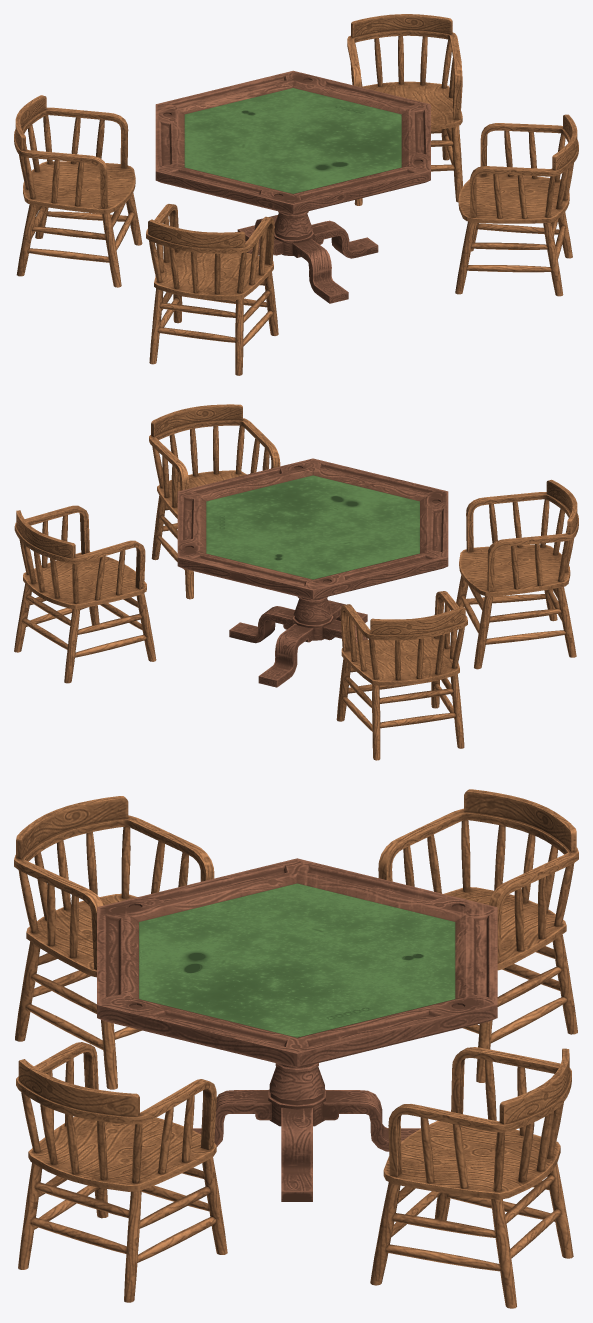
3 views of the same model, one above another, from view 1: azimuth 30°, elevation 25°; view 2: azimuth 150°, elevation 25°; view 3: azimuth 270°, elevation 25° (orthographic). The views are drawn at different scales.
Parts seen in each view (by area): view 1: Table_Poker_low, Assise_M_1001_0.002, Assise_M_1001_0, Assise_M_1001_0.001, Contour_M_1001_0.002, Contour, Assise_M_1001_0.003, Contour_M_1001_0.003, Pied_poker_low_03, Contour_M_1001_0.001, Dossier_M_1001_0.003, Dossier_M_1001_0.001 (+20 smaller); view 2: Table_Poker_low, Assise_M_1001_0.001, Assise_M_1001_0.003, Assise_M_1001_0.002, Contour_M_1001_0.001, Contour_M_1001_0.003, Contour, Contour_M_1001_0.002, Pied_poker_low_01, Dossier_M_1001_0.002, Dossier, Pied_poker_low_04 (+18 smaller); view 3: Table_Poker_low, Assise_M_1001_0.003, Assise_M_1001_0, Contour_M_1001_0.003, Contour, Contour_M_1001_0.002, Contour_M_1001_0.001, Pied_poker_low_04, Dossier, Assise_M_1001_0.002, Dossier_M_1001_0.002, Dossier_M_1001_0.001 (+25 smaller).
Part boxes in pixels (<box>): Table_Poker_low: <box>155,70,430,214</box>; Assise_M_1001_0.002: <box>23,161,135,213</box>; Assise_M_1001_0: <box>458,173,569,223</box>; Assise_M_1001_0.001: <box>154,250,273,299</box>; Contour_M_1001_0.002: <box>14,107,128,208</box>; Contour: <box>469,123,578,217</box>; Assise_M_1001_0.003: <box>362,81,462,130</box>; Contour_M_1001_0.003: <box>347,30,462,119</box>; Pied_poker_low_03: <box>292,238,348,303</box>; Contour_M_1001_0.001: <box>146,204,274,264</box>; Dossier_M_1001_0.003: <box>351,14,452,37</box>; Dossier_M_1001_0.001: <box>148,219,245,248</box>; Table_Poker_low: <box>177,458,448,600</box>; Assise_M_1001_0.001: <box>459,544,570,596</box>; Assise_M_1001_0.003: <box>23,552,146,609</box>; Assise_M_1001_0.002: <box>341,637,459,685</box>; Contour_M_1001_0.001: <box>466,492,578,591</box>; Contour_M_1001_0.003: <box>14,505,145,589</box>; Contour: <box>149,418,280,490</box>; Contour_M_1001_0.002: <box>340,591,467,651</box>; Pied_poker_low_01: <box>258,623,313,687</box>; Dossier_M_1001_0.002: <box>370,606,465,635</box>; Dossier: <box>151,404,242,436</box>; Pied_poker_low_04: <box>229,606,294,643</box>; Table_Poker_low: <box>97,858,497,1068</box>; Assise_M_1001_0.003: <box>383,1120,560,1199</box>; Assise_M_1001_0: <box>28,1116,216,1191</box>; Contour_M_1001_0.003: <box>388,1047,571,1176</box>; Contour: <box>16,1042,216,1150</box>; Contour_M_1001_0.002: <box>378,808,578,962</box>; Contour_M_1001_0.001: <box>14,815,214,969</box>; Pied_poker_low_04: <box>281,1107,312,1201</box>; Dossier: <box>18,1059,139,1116</box>; Assise_M_1001_0.002: <box>444,887,566,970</box>; Dossier_M_1001_0.002: <box>464,789,576,852</box>; Dossier_M_1001_0.001: <box>16,796,128,859</box>.
Size of the model in its own units: 32.51 by 9.79 by 24.46.
1 material, 1 textured.
